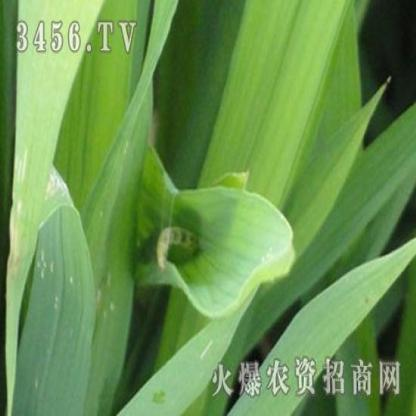leaf-folder: (153, 204, 212, 292)
